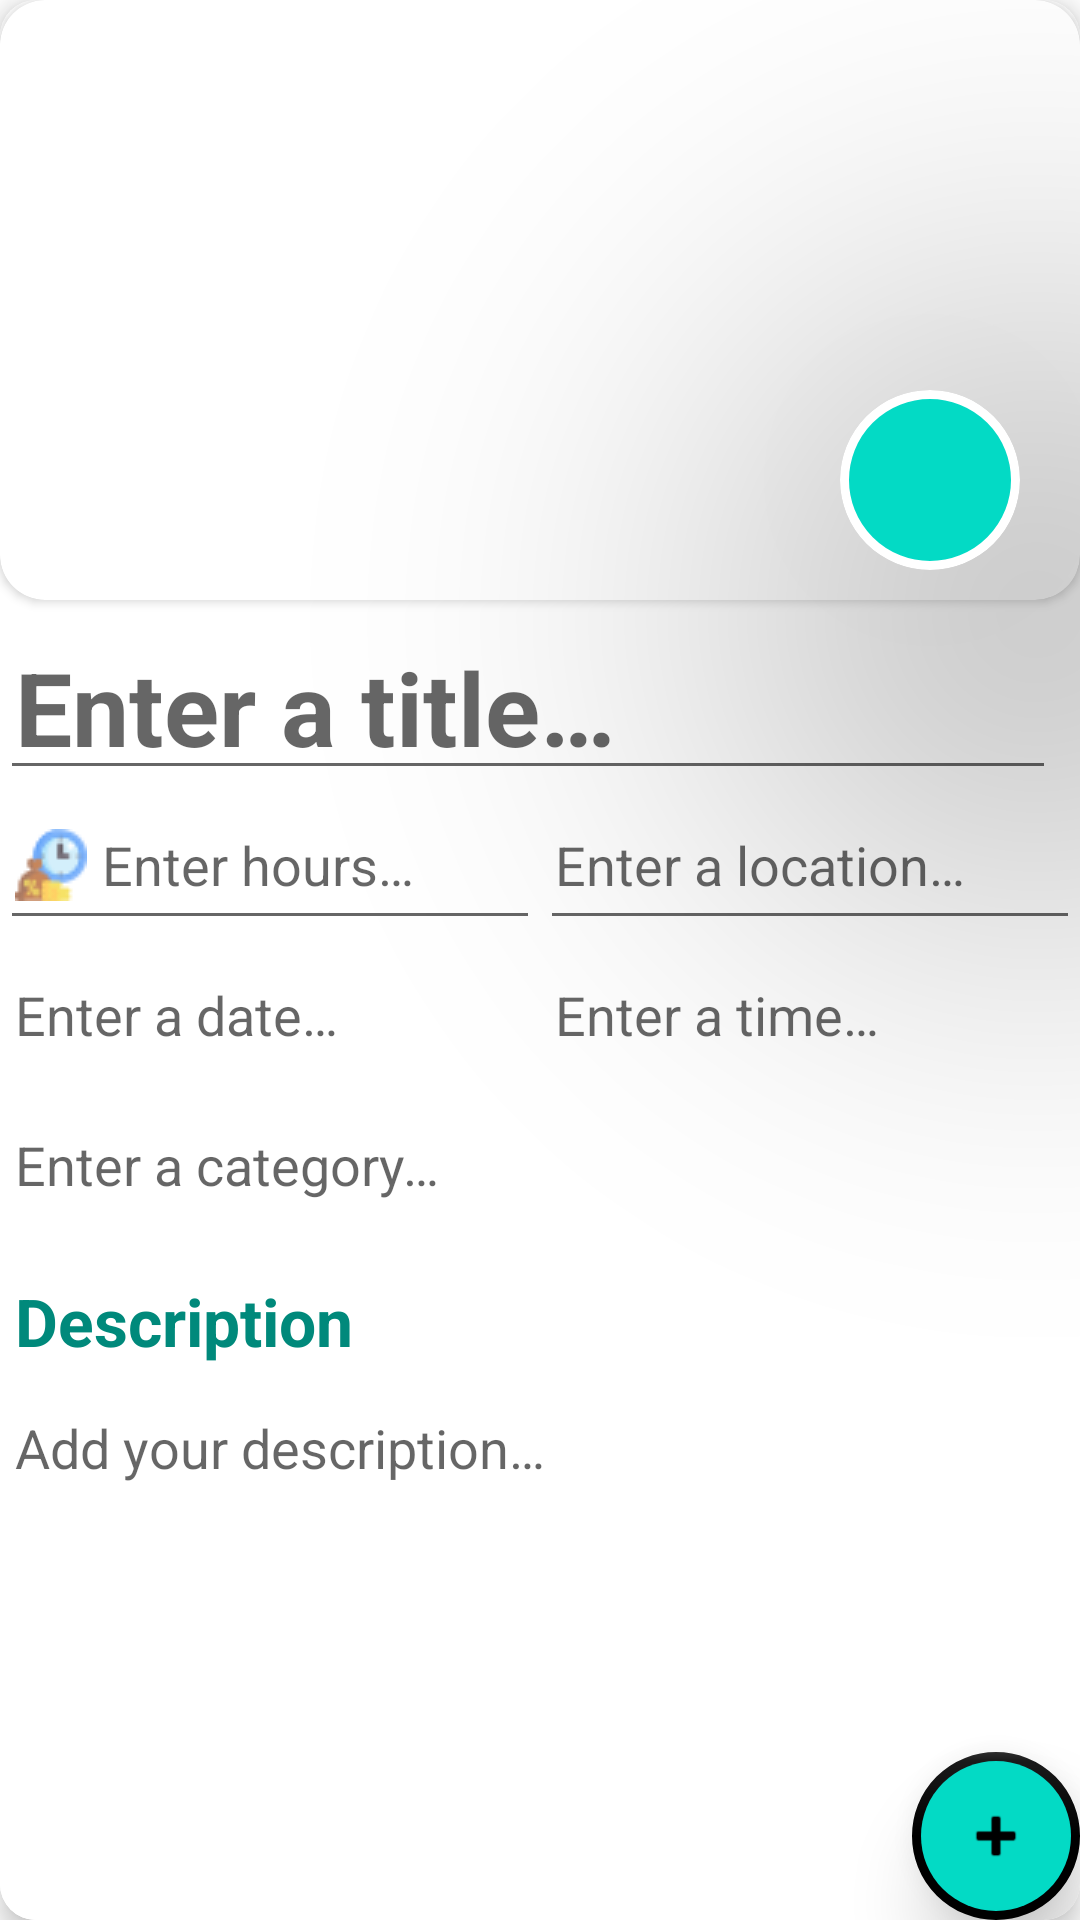

Where to tap for icons on this 1080w x 1920h app screen, as (x=x, y=y):
Add a Timeslot: (x=996, y=1836)
